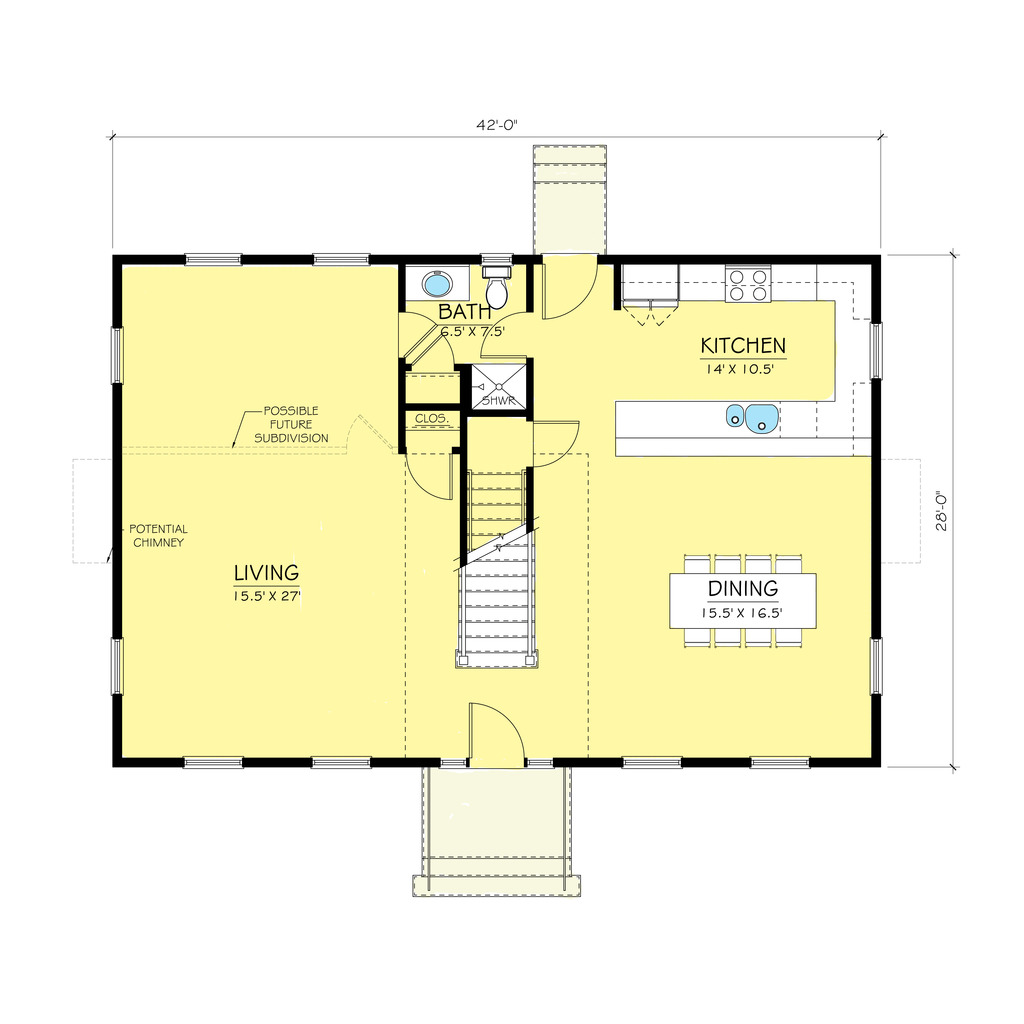dining_table: (632, 535, 823, 654)
door: (458, 689, 529, 770), (536, 254, 602, 321), (526, 413, 582, 467), (407, 327, 467, 376), (404, 453, 459, 505), (478, 313, 536, 354), (399, 307, 436, 360)
large_sink: (472, 257, 520, 307)
small_sink: (398, 267, 474, 302)
stairs: (463, 456, 548, 676), (529, 132, 618, 262)
twin_sink: (696, 391, 801, 445)
window: (853, 624, 902, 705), (104, 316, 132, 391), (613, 748, 680, 778), (753, 748, 817, 776), (185, 248, 248, 275), (863, 319, 888, 383), (180, 753, 259, 773), (298, 751, 372, 772), (109, 635, 129, 691)
